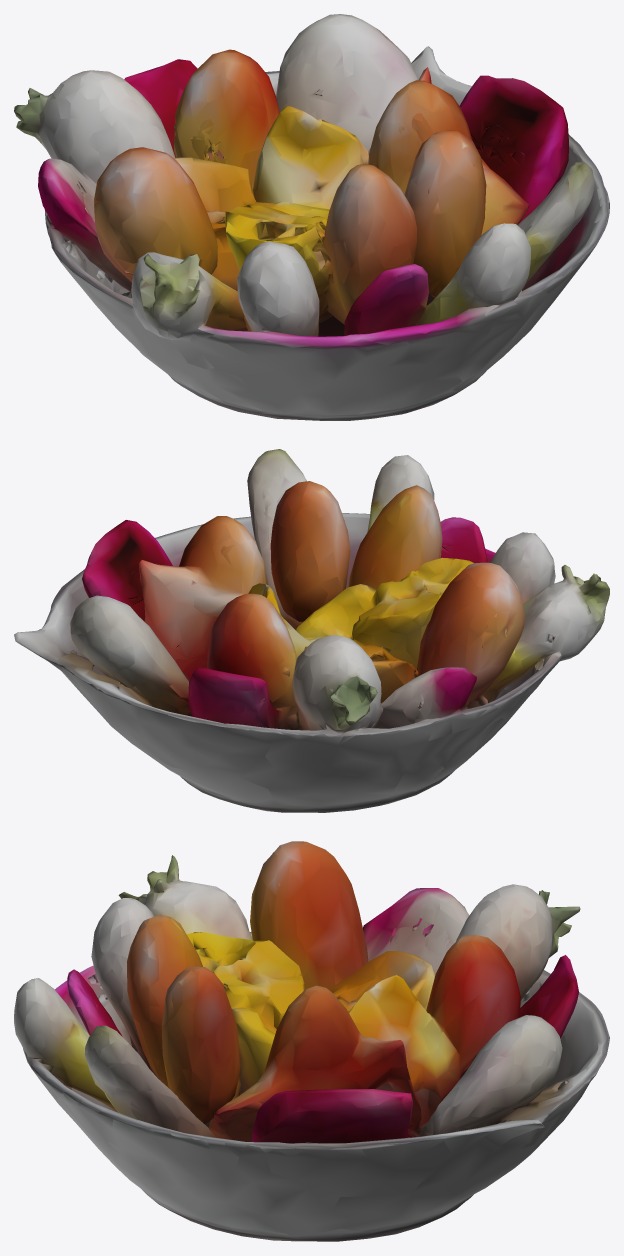
File: 0008_mask_009_fruit_platter.glb
The picture shows the model from 3 angles, top to bottom: view 1: azimuth 30°, elevation 25°; view 2: azimuth 150°, elevation 25°; view 3: azimuth 270°, elevation 25°; orthographic projection. The views are drawn at different scales.
Parts seen in each view (by area): view 1: mask_009_object; view 2: mask_009_object; view 3: mask_009_object.
Part boxes in pixels (x1,y1,x2,y2): mask_009_object: [14, 14, 609, 420]; mask_009_object: [14, 449, 609, 812]; mask_009_object: [14, 841, 609, 1241].
Bounding box in the file's own units: 0.4145 × 0.1981 × 0.4358.
